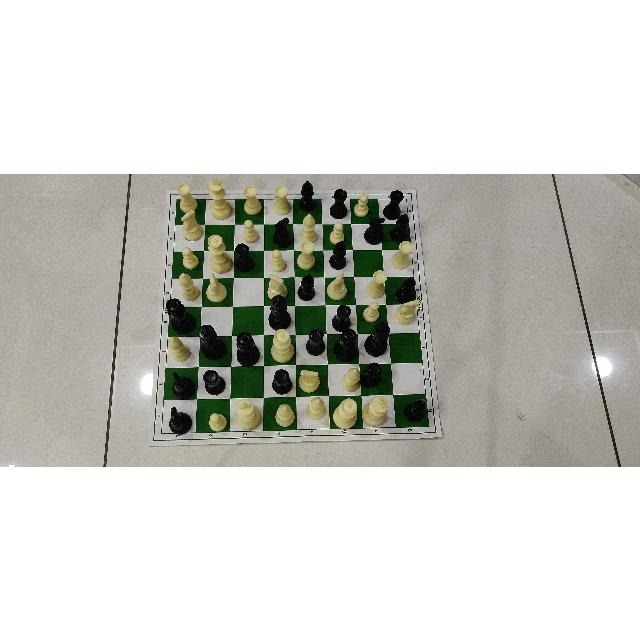black-bishop: (388, 210, 410, 242), (402, 396, 427, 424), (392, 273, 415, 303), (297, 180, 318, 212), (296, 272, 317, 302), (327, 239, 347, 269)
black-king: (197, 321, 227, 361), (361, 322, 390, 358), (267, 294, 293, 331)
black-knight: (165, 403, 193, 437), (359, 214, 386, 246), (169, 369, 197, 399), (270, 216, 292, 248)
black-queen: (163, 296, 197, 333), (233, 328, 260, 368), (331, 327, 357, 362)
black-rook: (324, 187, 350, 221), (381, 188, 407, 220), (303, 326, 327, 358), (201, 366, 226, 396), (233, 240, 256, 272), (360, 359, 383, 389), (270, 367, 293, 394), (330, 303, 352, 331)
white-bishop: (167, 335, 191, 363), (178, 271, 200, 301), (299, 212, 318, 243), (341, 365, 361, 393), (275, 401, 295, 427), (306, 395, 326, 420)
white-king: (206, 175, 231, 221), (235, 395, 263, 431), (362, 394, 392, 426)
white-knight: (392, 294, 420, 326), (325, 266, 349, 302), (178, 209, 203, 243), (265, 272, 291, 303), (204, 271, 229, 303), (298, 365, 322, 392)
white-pawn: (180, 246, 199, 270), (242, 217, 259, 243), (269, 248, 287, 272), (354, 192, 370, 217), (362, 300, 380, 322), (328, 221, 345, 244), (209, 412, 227, 432)
white-queen: (269, 328, 294, 364), (207, 233, 231, 269), (332, 397, 358, 429)
white-rook: (390, 237, 414, 271), (295, 239, 318, 271), (365, 268, 389, 297), (176, 181, 197, 212), (243, 184, 263, 216), (272, 182, 291, 215)
